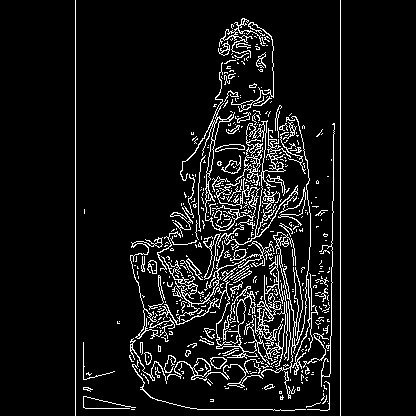buddha-sitting: (196, 214, 228, 392)
